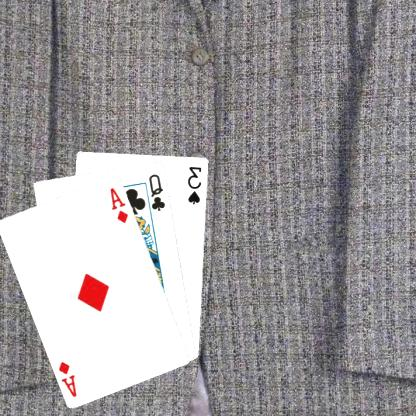3S: (187, 164, 205, 205)
AD: (108, 185, 132, 224), (58, 358, 80, 398)
QC: (148, 171, 169, 212)
